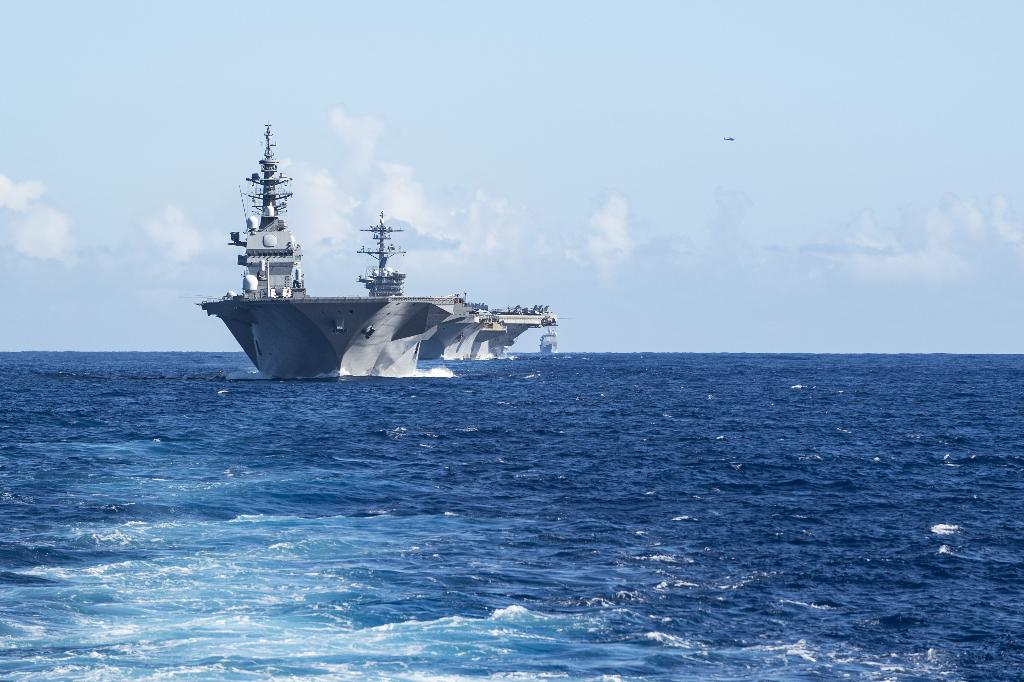Warship: (198, 136, 452, 390), (363, 197, 529, 368), (536, 328, 570, 360)
